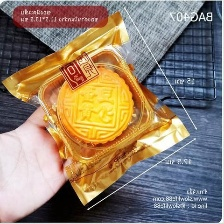snack: (0, 6, 194, 209)
